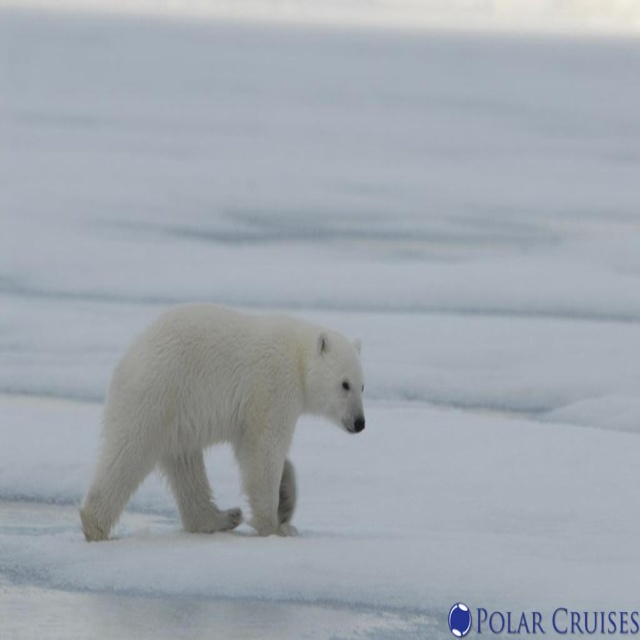Polar bear: (77, 299, 365, 541)
